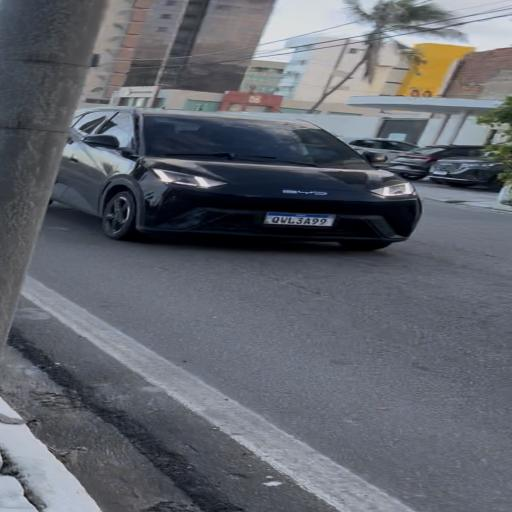detec-o-placas: (245, 202, 355, 241)
